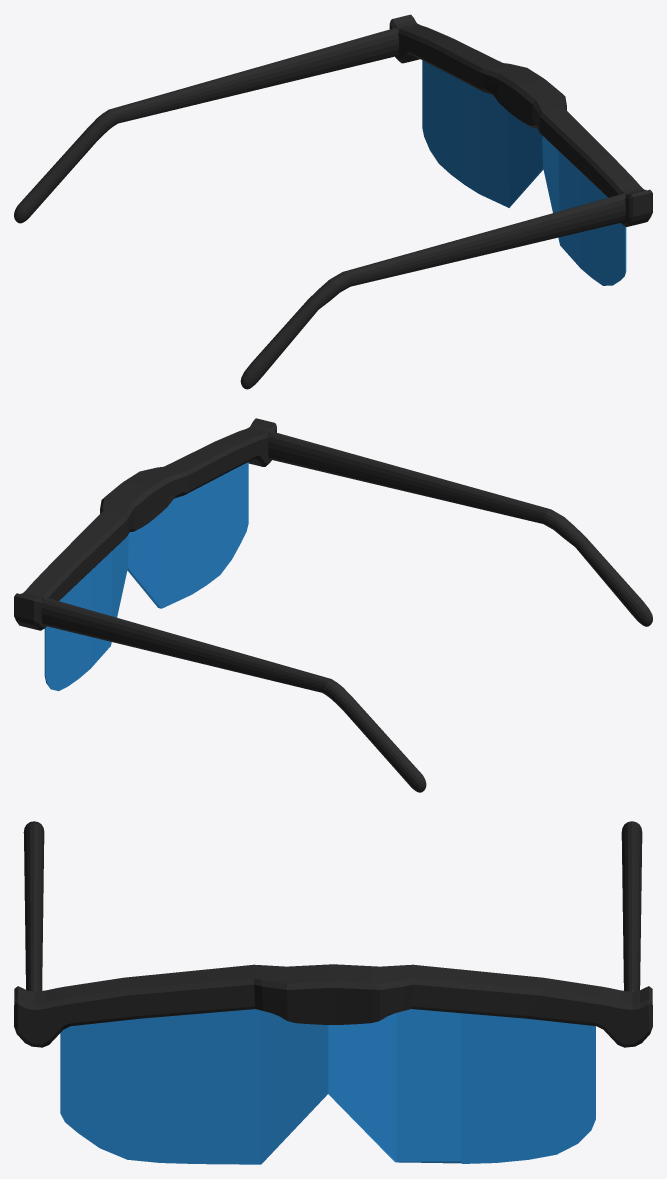
Rendered from Gafas de proteccion .fbx.
3 renders of one model, top to bottom at view 1: azimuth 30°, elevation 25°; view 2: azimuth 150°, elevation 25°; view 3: azimuth 270°, elevation 25°, orthographic. The views are drawn at different scales.
Visible parts, largest first — view 1: Lentes; view 2: Lentes; view 3: Lentes.
Part boxes in pixels (x1,y1,x2,y2): Lentes: (14, 14, 652, 389); Lentes: (14, 418, 652, 792); Lentes: (14, 821, 652, 1164).
Bounding box in the file's own units: 15 × 5 × 15.
